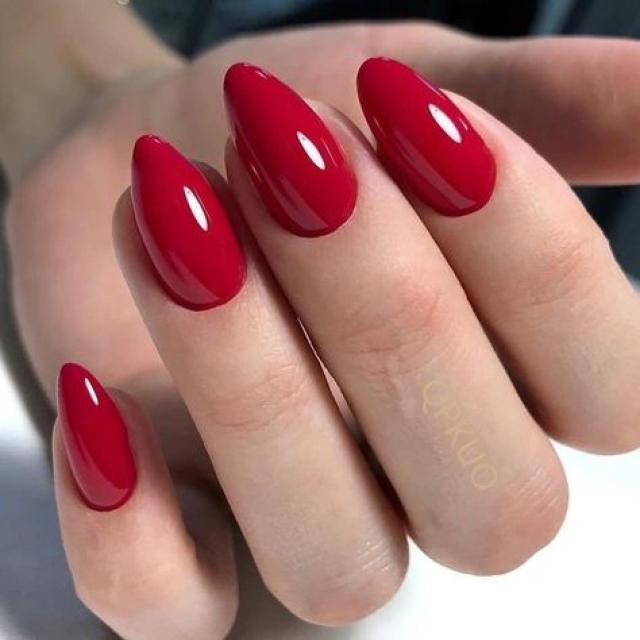Fingernail: (224, 64, 356, 235), (358, 59, 495, 215), (132, 136, 245, 309), (58, 363, 135, 511)
